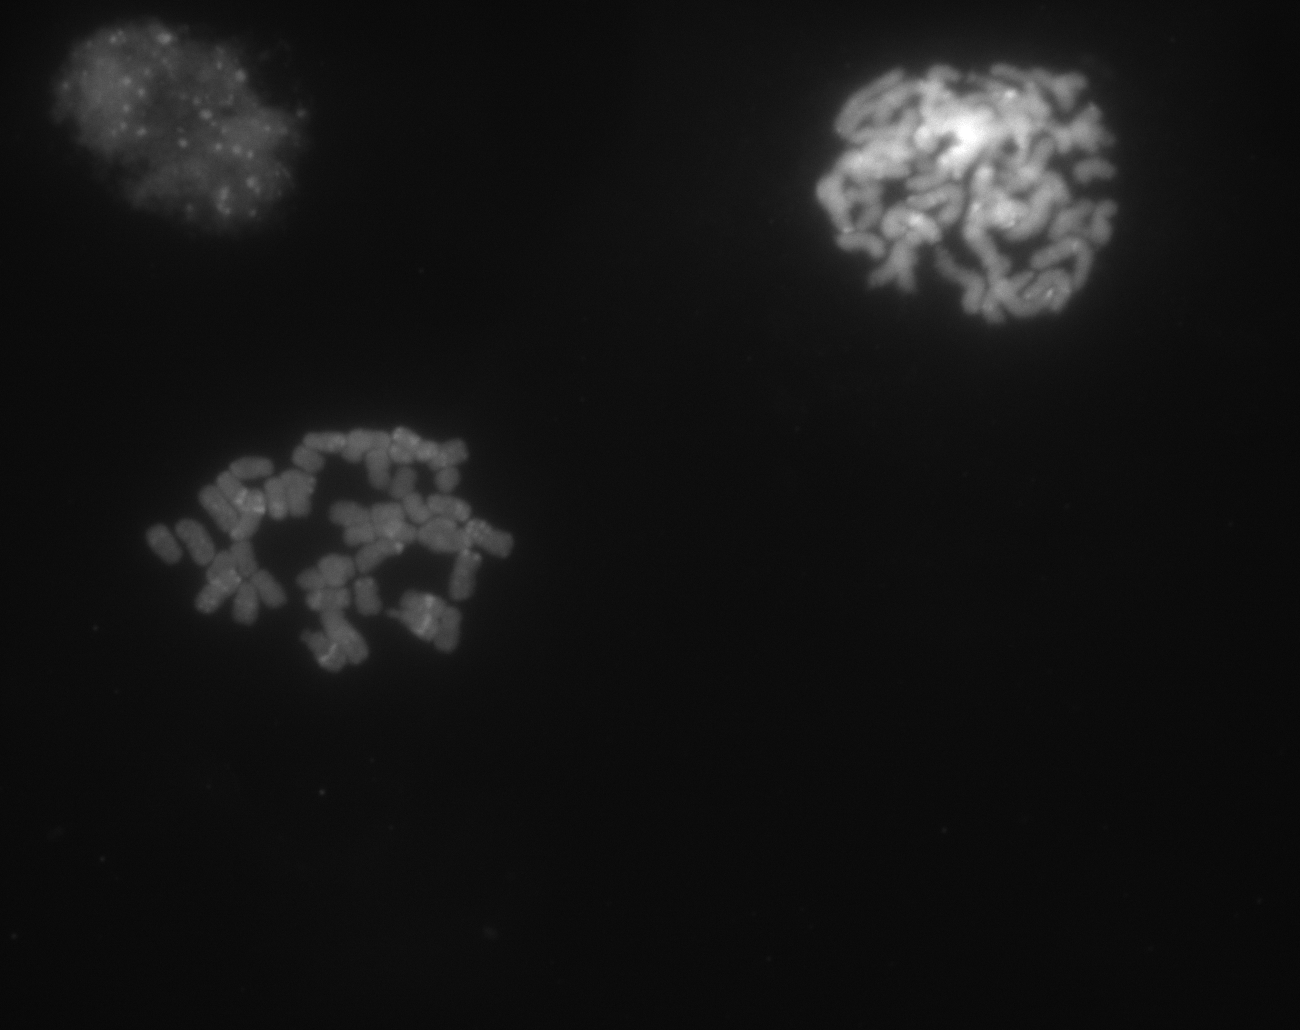Chromosomes: (83, 384, 576, 701), (771, 25, 1169, 361)
Others: (7, 7, 367, 257)
